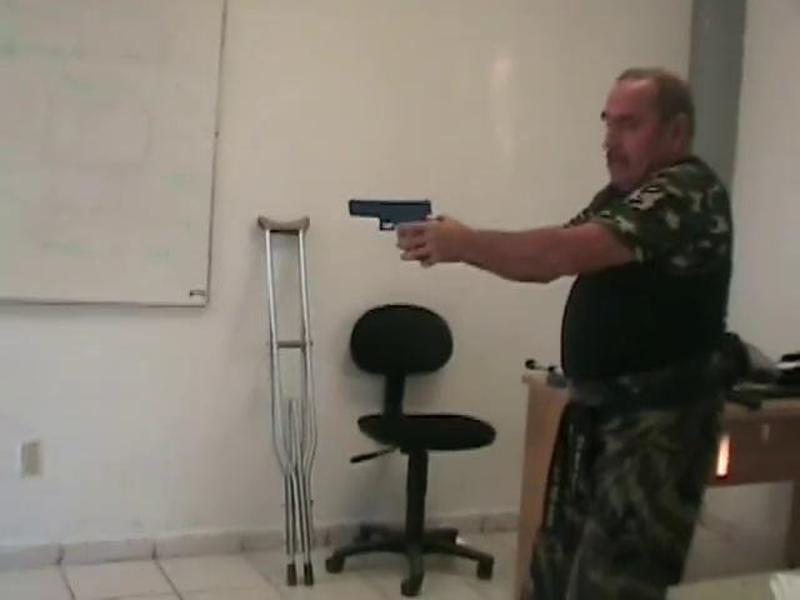Pistola: (324, 171, 443, 261)
